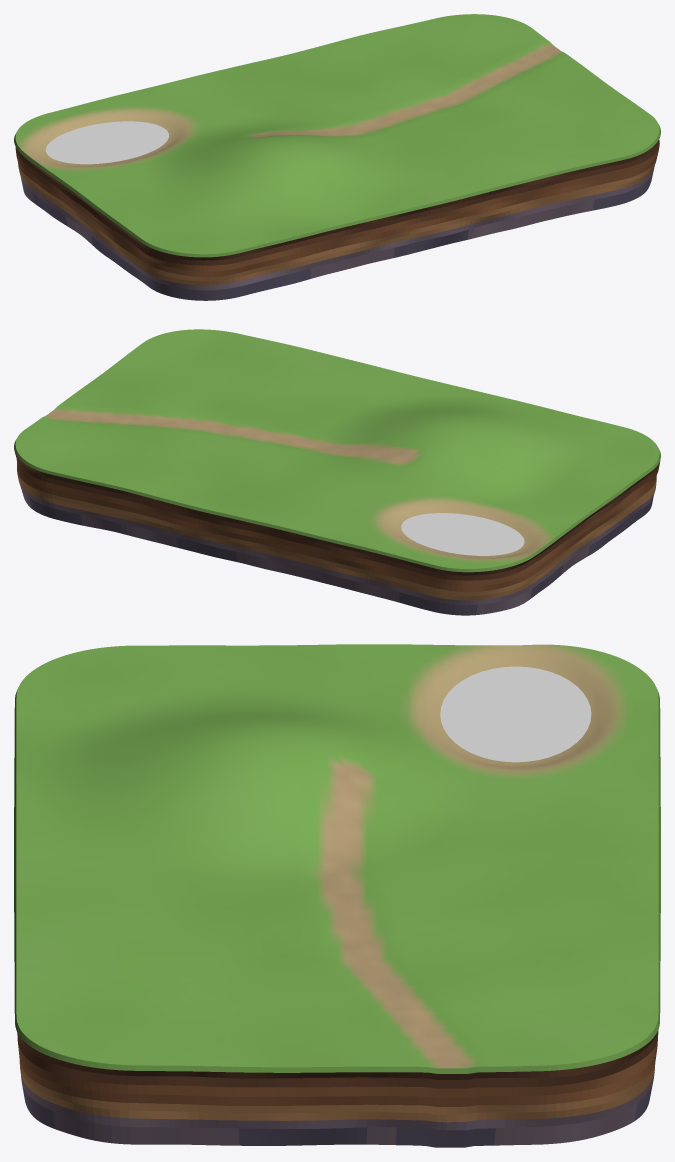
Rendered from terrain_level06.fbx.
3 renders of one model, top to bottom at view 1: azimuth 30°, elevation 25°; view 2: azimuth 150°, elevation 25°; view 3: azimuth 270°, elevation 25°, orthographic. The views are drawn at different scales.
Visible parts, largest first — view 1: Ground, Water_brook; view 2: Ground, Water_brook; view 3: Ground, Water_brook.
Boxes of the visible parts, left/top/right/bottom form: Ground: left=14, top=14, right=660, bottom=300; Water_brook: left=45, top=121, right=168, bottom=164; Ground: left=14, top=329, right=660, bottom=615; Water_brook: left=401, top=513, right=524, bottom=555; Ground: left=14, top=644, right=660, bottom=1147; Water_brook: left=440, top=666, right=591, bottom=762.
Bounding box in the file's own units: 14.07 × 1.98 × 9.07.
